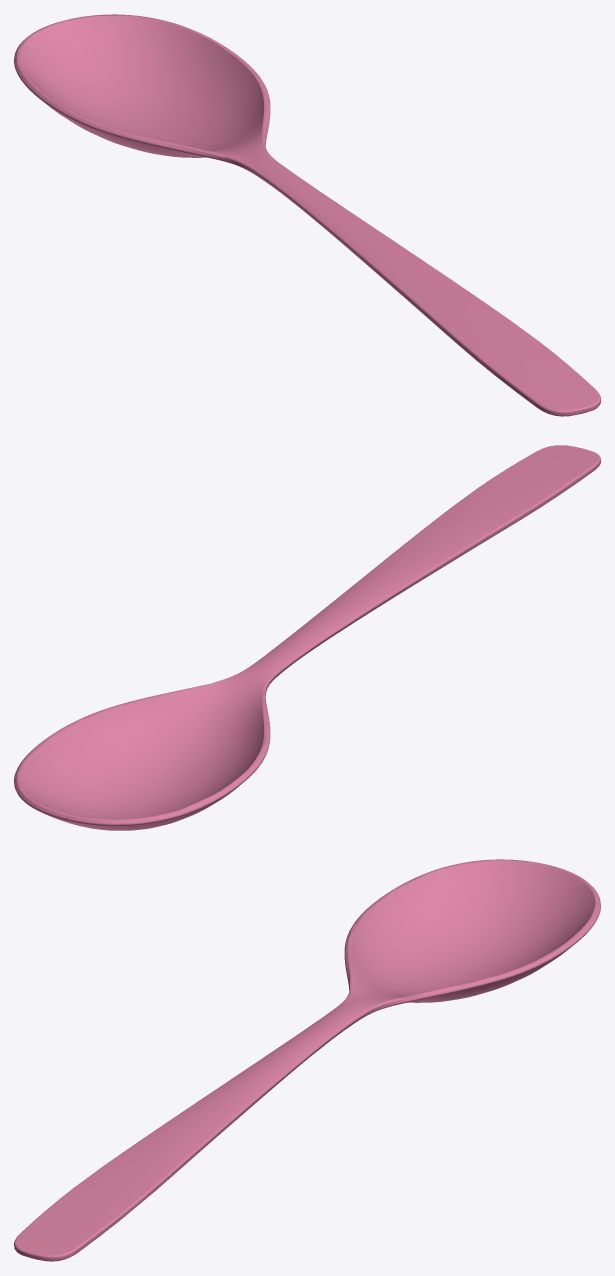
The model's file is spoon_mopsig.glb.
3 renders of one model, top to bottom at view 1: azimuth 30°, elevation 25°; view 2: azimuth 150°, elevation 25°; view 3: azimuth 330°, elevation 25°, orthographic.
Visible parts, largest first — view 1: Mesh_1; view 2: Mesh_1; view 3: Mesh_1.
Boxes of the visible parts, bbox=[...] form: Mesh_1: bbox=[14, 14, 600, 416]; Mesh_1: bbox=[14, 445, 600, 830]; Mesh_1: bbox=[14, 859, 600, 1261].
Bounding box in the file's own units: 0.044 × 0.0116 × 0.2056.
